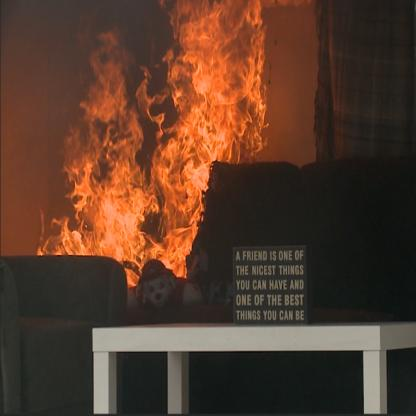fire: (34, 0, 282, 284)
smoke: (2, 0, 166, 266)
